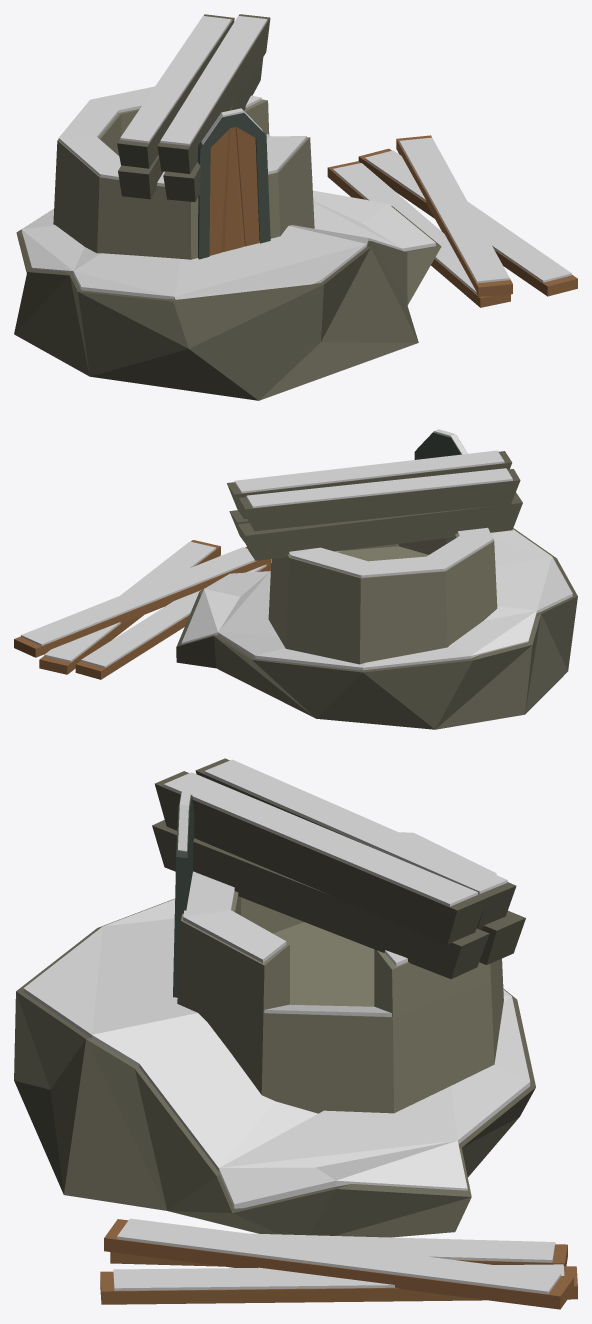
File: WizardTower_build_snow_mat.fbx
The picture shows the model from 3 angles, top to bottom: view 1: azimuth 30°, elevation 25°; view 2: azimuth 150°, elevation 25°; view 3: azimuth 270°, elevation 25°; orthographic projection. The views are drawn at different scales.
Visible parts, largest first — view 1: WizardTower_build_snow_mat; view 2: WizardTower_build_snow_mat; view 3: WizardTower_build_snow_mat.
Boxes of the visible parts, x1,y1,x2,y2 form: WizardTower_build_snow_mat: [14, 14, 577, 400]; WizardTower_build_snow_mat: [14, 429, 577, 729]; WizardTower_build_snow_mat: [14, 758, 577, 1309].
Size of the model in its own units: 3.2 by 1.44 by 2.39.
